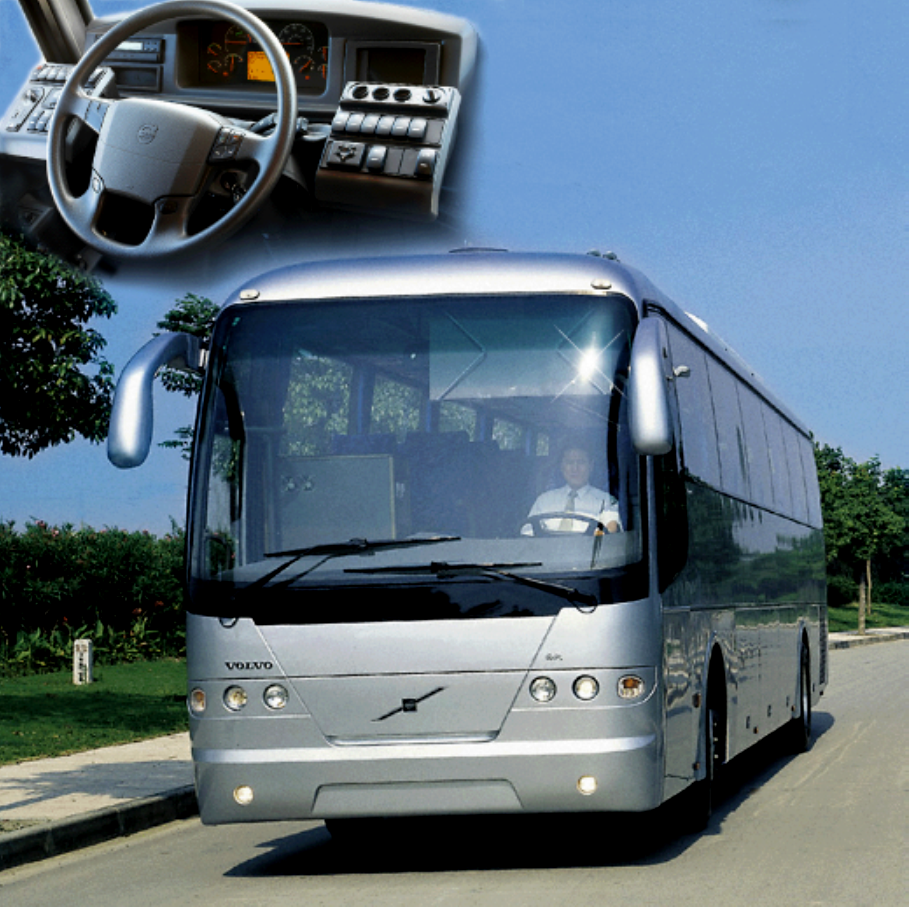bus: (180, 250, 833, 824)
